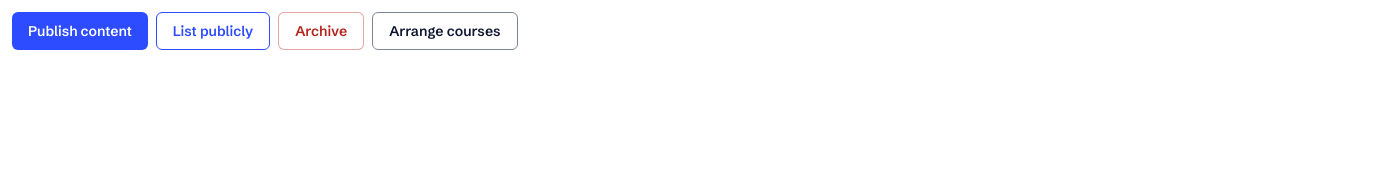
Test case: ProgrammeDetailClient — listing transport failure › clears busy and shows a generic retryable error on rejection, then a retry succeeds
Click the button "List publicly" at (213, 31), box 156,12 -> 270,50
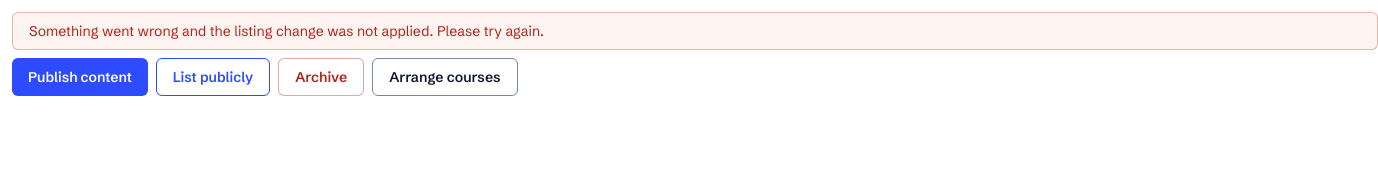
Now the message shows "was not applied", box 29,22 -> 544,40
Click the button "List publicly" at (213, 77), box 156,58 -> 270,96
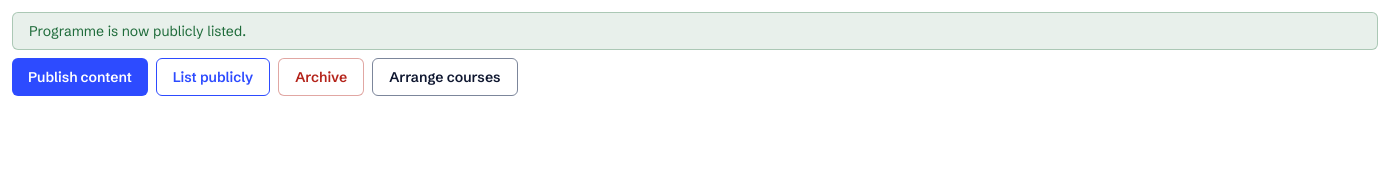
Now the text "Programme is now publicly listed." is shown, box 12,12 -> 1377,50
